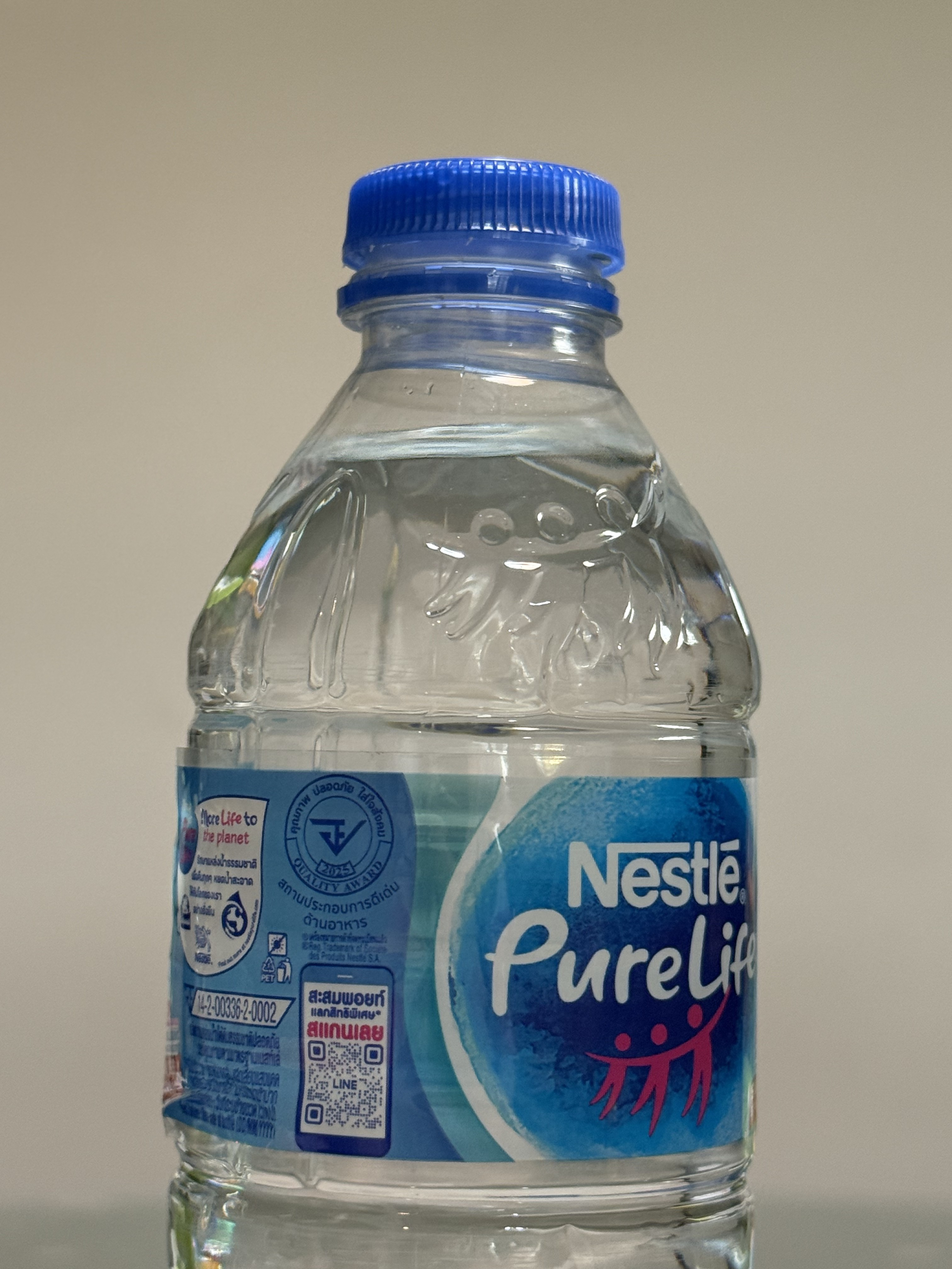half_cap: (327, 148, 633, 332)
